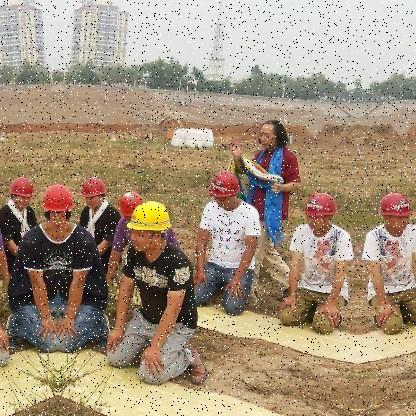helmet: (128, 198, 172, 251), (305, 189, 341, 229), (379, 189, 415, 229), (210, 168, 242, 206), (82, 173, 108, 207), (11, 173, 37, 207), (60, 179, 76, 231), (43, 179, 59, 231), (120, 187, 143, 221)
